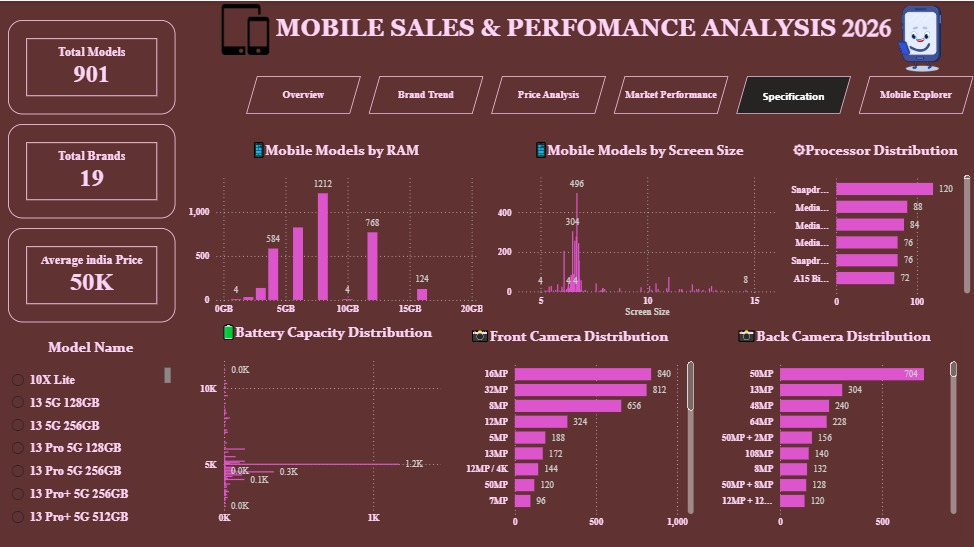

The dashboard page shown, as its layout file describes it:
{"tool":"powerbi","page":{"name":"Specification","canvas":[1280,720],"ordinal":4},"visuals":[{"type":"group","id":"g1","title":"Header","box":[357.5,0,922.5,98.7],"z":0},{"type":"textbox","box":[357.5,9.6,875.4,57.8],"z":0,"group":"g1"},{"type":"cardVisual","fields":{"Data":["Mobiles Dataset (2026).Total Models"]},"box":[10,24.3,220.2,124.4],"z":0,"group":"g2"},{"type":"image","box":[1137.9,0,141.8,99.1],"z":1000,"group":"g1"},{"type":"pageNavigator","box":[323.2,98.7,956.8,50.1],"z":1000},{"type":"cardVisual","fields":{"Data":["Mobiles Dataset (2026).Average India Price"]},"box":[10,297.5,220.2,124.4],"z":1000,"group":"g2"},{"type":"group","id":"g2","title":"KPIs","box":[10,24.3,220.2,397.6],"z":2000},{"type":"clusteredColumnChart","title":"📱Mobile Models by RAM","fields":{"Category":["Mobiles Dataset (2026).RAM"],"Y":["CountNonNull(Mobiles Dataset (2026).Model Name)"]},"box":[243.6,183.1,396.4,238.1],"z":3000},{"type":"cardVisual","fields":{"Data":["Mobiles Dataset (2026).Total Brands"]},"box":[10,161.6,220.2,124.4],"z":4000,"group":"g2"},{"type":"clusteredColumnChart","title":"📱Mobile Models by Screen Size","fields":{"Y":["CountNonNull(Mobiles Dataset (2026).Model Name)"],"Category":["Mobiles Dataset (2026).Screen Size"]},"box":[649.6,183.1,381.2,238.1],"z":4000},{"type":"barChart","title":"🔋Battery Capacity Distribution","fields":{"Category":["Mobiles Dataset (2026).Battery Capacity"],"Y":["CountNonNull(Mobiles Dataset (2026).Model Name)"]},"box":[257.4,421.2,344.1,273.9],"z":5000},{"type":"clusteredBarChart","title":"⚙Processor Distribution","fields":{"Category":["Mobiles Dataset (2026).Processor"],"Y":["CountNonNull(Mobiles Dataset (2026).Model Name)"]},"box":[1021.2,183.1,258.8,228.5],"z":6000},{"type":"barChart","title":"📸Front Camera Distribution","fields":{"Category":["Mobiles Dataset (2026).Front Camera"],"Y":["CountNonNull(Mobiles Dataset (2026).Model Name)"]},"box":[579.4,426.7,337.2,273.9],"z":7000},{"type":"barChart","title":"📸Back Camera Distribution","fields":{"Y":["CountNonNull(Mobiles Dataset (2026).Model Name)"],"Category":["Mobiles Dataset (2026).Back Camera"]},"box":[929,426.7,333.1,273.9],"z":8000},{"type":"listSlicer","title":"Model Name","fields":{"Values":["Mobiles Dataset (2026).Model Name"]},"box":[9.6,443.2,220.2,257.4],"z":9000},{"type":"image","box":[265.6,4,114.2,67.4],"z":10000}]}

Visuals, with their boxes in screenshot pixels (x1, y1, x2, y2), scaled from the page's 1280x720 canvas onto the 974x547 screenshot:
"Header" group: 272 0 973 75
textbox: 272 7 938 51
cardVisual - Mobiles Dataset (2026).Total Models: 8 18 175 113
image: 866 0 973 75
pageNavigator: 246 75 973 113
cardVisual - Mobiles Dataset (2026).Average India Price: 8 226 175 321
"KPIs" group: 8 18 175 321
"📱Mobile Models by RAM" clusteredColumnChart: 185 139 487 320
cardVisual - Mobiles Dataset (2026).Total Brands: 8 123 175 217
"📱Mobile Models by Screen Size" clusteredColumnChart: 494 139 784 320
"🔋Battery Capacity Distribution" barChart: 196 320 458 528
"⚙Processor Distribution" clusteredBarChart: 777 139 973 313
"📸Front Camera Distribution" barChart: 441 324 697 532
"📸Back Camera Distribution" barChart: 707 324 960 532
"Model Name" listSlicer: 7 337 175 532
image: 202 3 289 54
